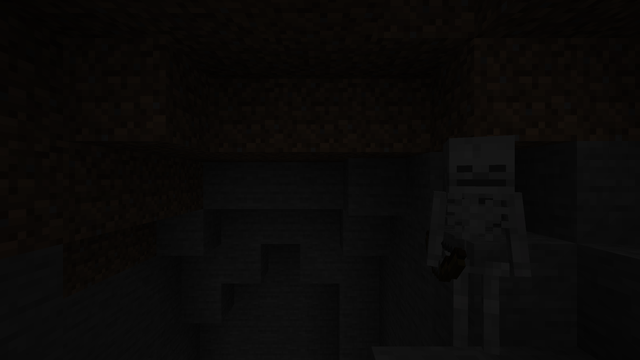squelettes: (430, 136, 530, 356)
